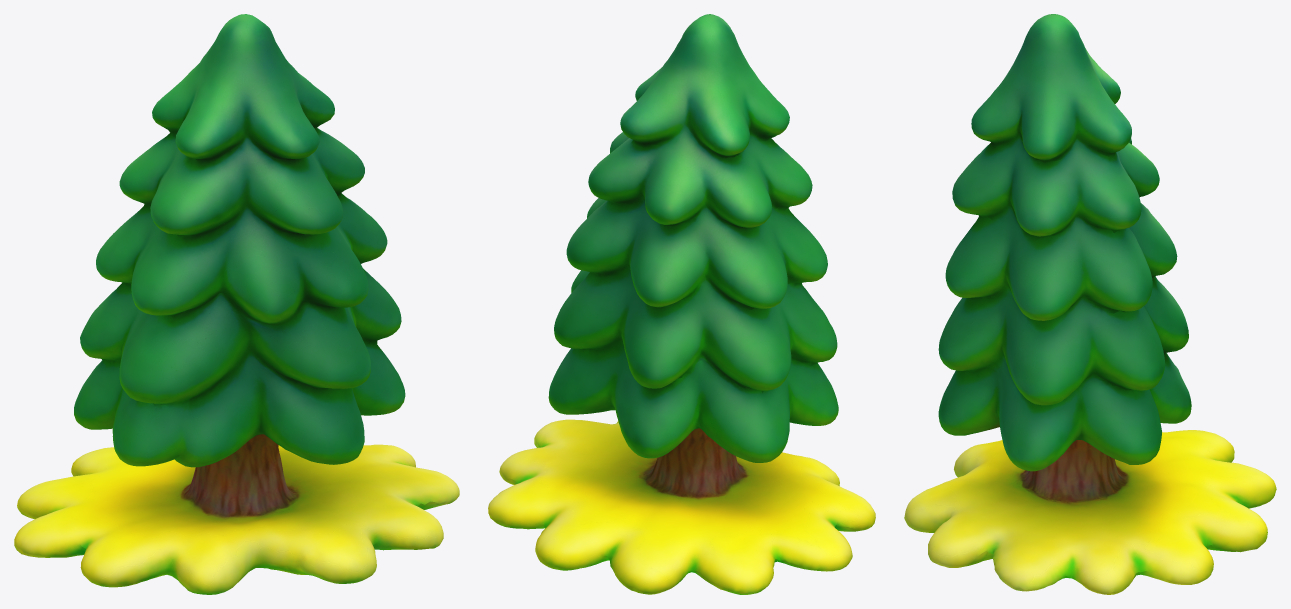
The model's file is tree_ai_generated-1.glb.
The picture shows the model from 3 angles, left to right: view 1: azimuth 30°, elevation 25°; view 2: azimuth 150°, elevation 25°; view 3: azimuth 270°, elevation 25°; orthographic projection. The views are drawn at different scales.
Parts seen in each view (by area): view 1: mesh.obj_1; view 2: mesh.obj_1; view 3: mesh.obj_1.
Boxes of the visible parts, box(x1,y1,x2,y2) form: mesh.obj_1: box(14, 14, 459, 594); mesh.obj_1: box(488, 14, 875, 594); mesh.obj_1: box(904, 14, 1276, 594).
Bounding box in the file's own units: 0.7214 × 0.9501 × 0.6369.
Materials: 1 (1 with a texture image).
